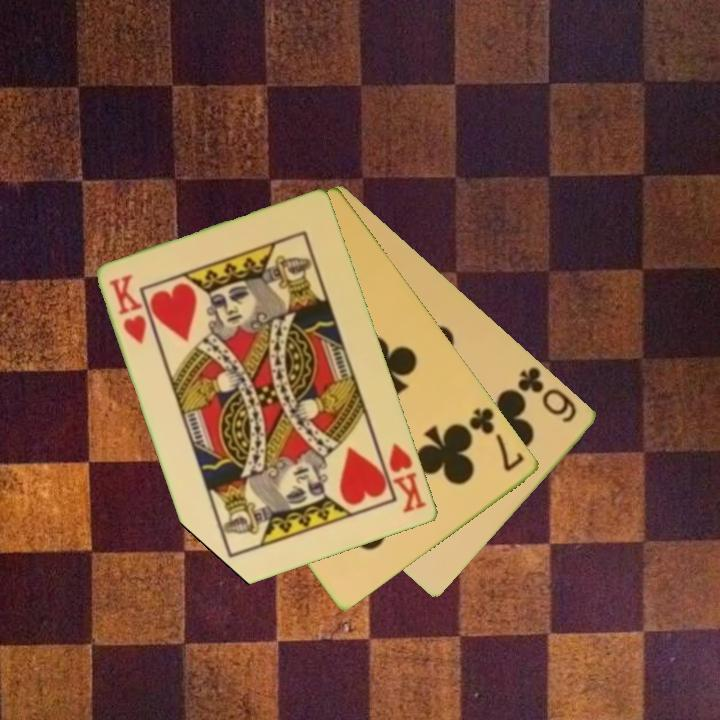6c: (514, 363, 580, 426)
7c: (465, 404, 528, 475)
Kh: (375, 439, 430, 517), (106, 271, 151, 348)
